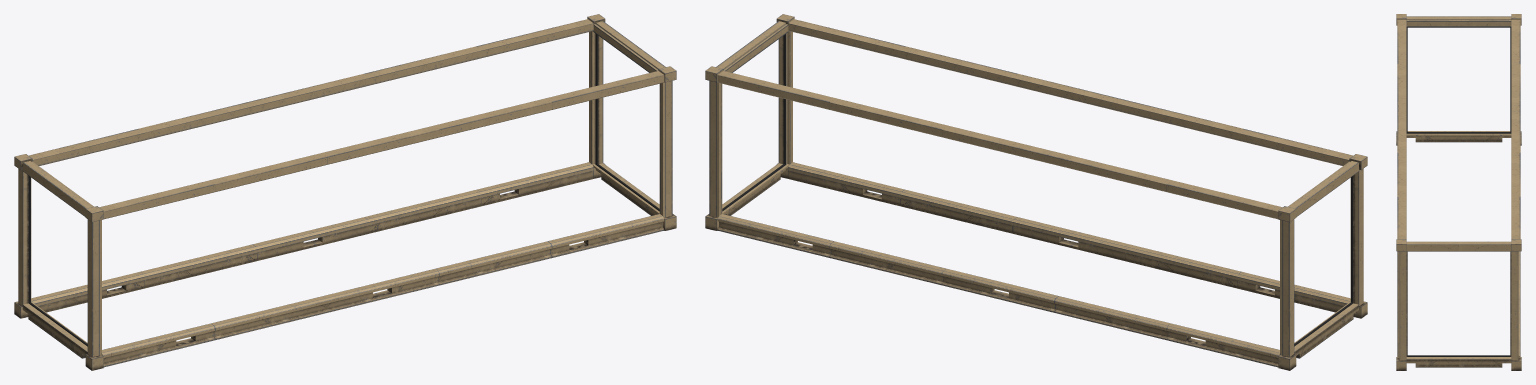
The model's file is CnFrameA4.fbx.
3 views of the same model, side by side, from view 1: azimuth 30°, elevation 25°; view 2: azimuth 150°, elevation 25°; view 3: azimuth 270°, elevation 25° (orthographic). The views are drawn at different scales.
Visible parts, largest first — view 1: CnFrameA4; view 2: CnFrameA4; view 3: CnFrameA4.
Part boxes in pixels (x1,y1,x2,y2): CnFrameA4: (14, 14, 676, 370); CnFrameA4: (705, 14, 1367, 370); CnFrameA4: (1396, 14, 1521, 370).
Size of the model in its own units: 1042 by 268 by 240.
